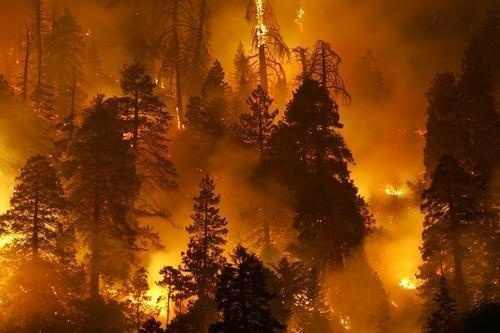fire: (128, 271, 180, 325), (394, 264, 427, 296), (248, 1, 271, 45), (379, 178, 411, 202), (170, 106, 187, 135)
